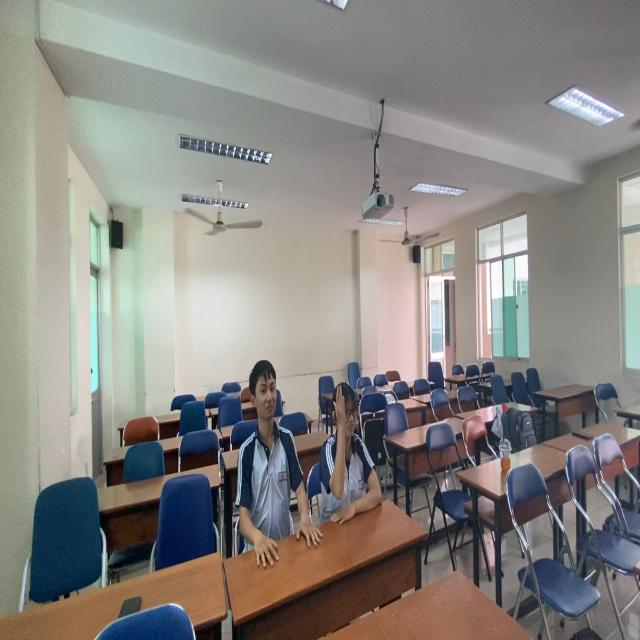raise_hand: (322, 378, 386, 532)
